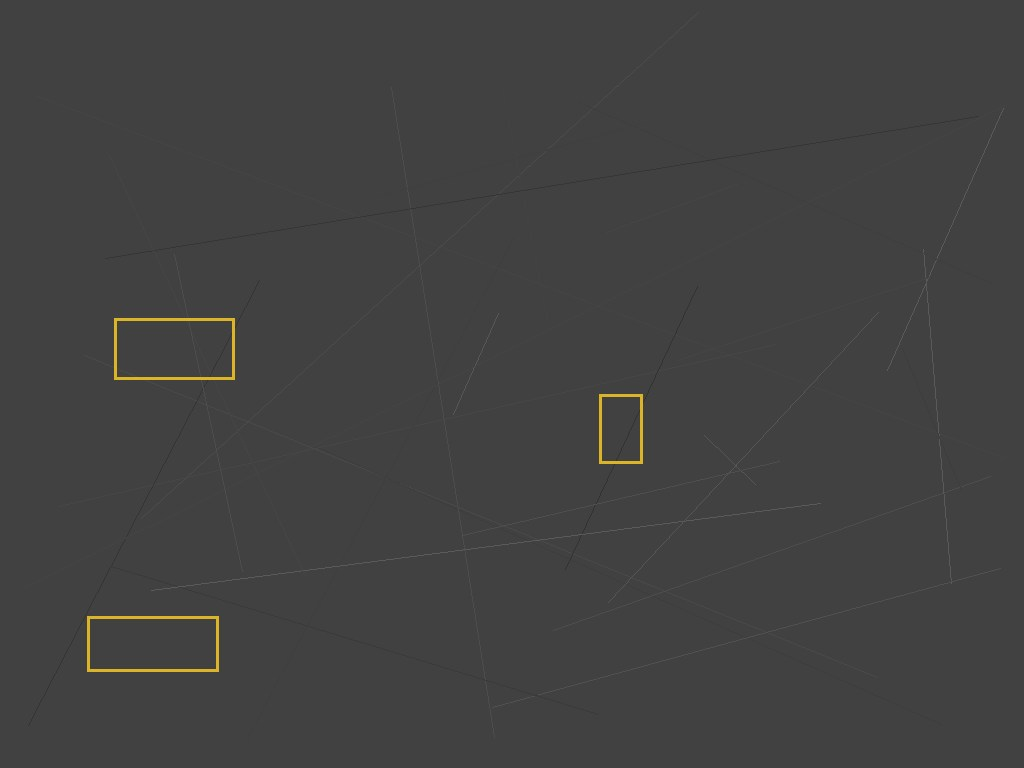D00: (114, 318, 234, 379), (87, 616, 218, 671), (599, 394, 642, 463)
